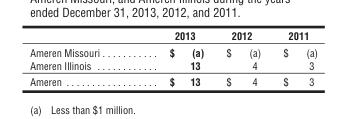table: (29, 28, 316, 88)
table column: (29, 28, 133, 88), (133, 28, 214, 88), (214, 28, 271, 88), (271, 28, 316, 88)
table column header: (29, 28, 316, 58)
table row: (29, 28, 316, 58), (29, 58, 316, 73), (29, 73, 316, 88)
